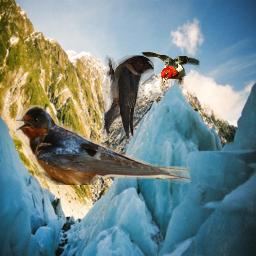Swallow: (16, 105, 191, 185), (102, 55, 154, 140)
Woodpecker: (138, 48, 200, 91)
